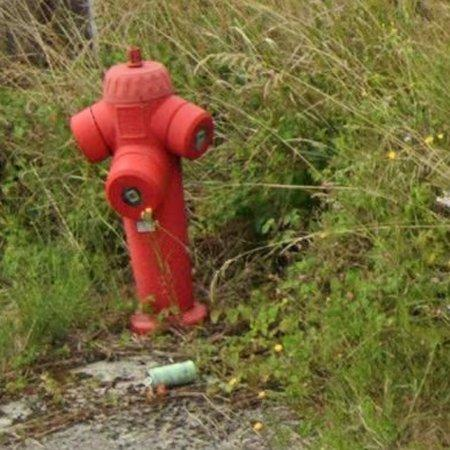a fire hydrant: (71, 48, 214, 333)
